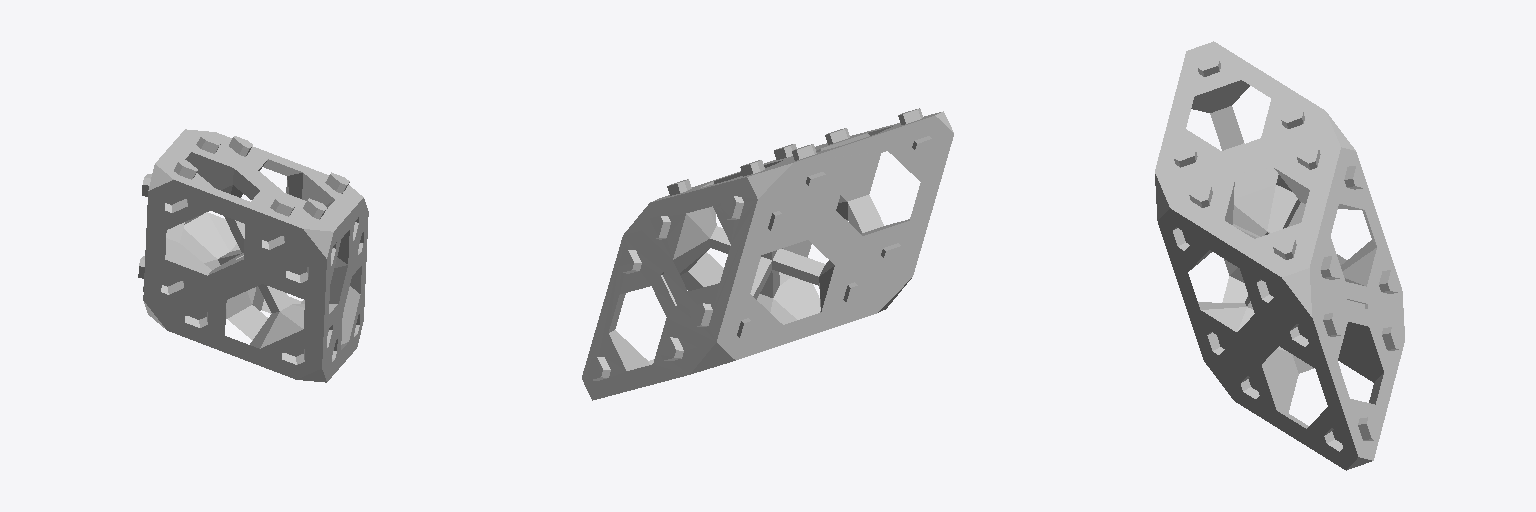
File: 2017beta1.obj
3 renders of one model, left to right at view 1: azimuth 30°, elevation 25°; view 2: azimuth 150°, elevation 25°; view 3: azimuth 270°, elevation 25°, orthographic.
Parts seen in each view (by area): view 1: Mesh1 Model; view 2: Mesh1 Model; view 3: Mesh1 Model.
Boxes of the visible parts, box(x1,y1,x2,y2) form: Mesh1 Model: box(138, 129, 368, 382); Mesh1 Model: box(582, 108, 953, 400); Mesh1 Model: box(1155, 41, 1404, 470).
Size of the model in its own units: 116 by 112 by 85.36.